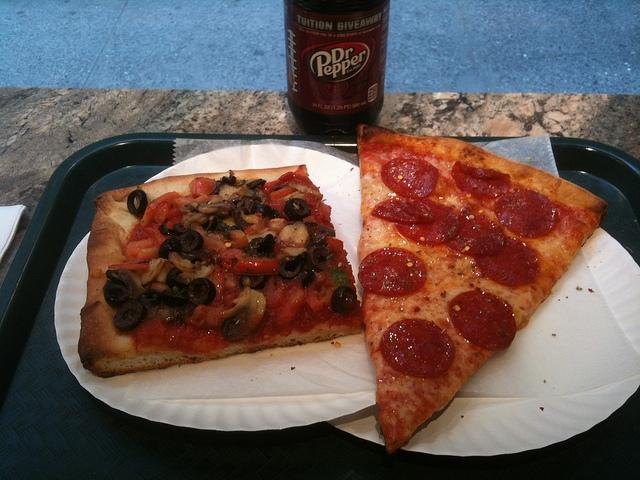mushroom: (221, 277, 266, 341), (118, 269, 146, 302), (275, 222, 308, 247), (140, 258, 166, 286), (176, 262, 216, 280), (182, 202, 234, 214), (187, 211, 218, 225), (216, 216, 242, 232), (240, 210, 264, 224), (243, 189, 264, 204), (151, 283, 171, 294), (156, 268, 167, 284)
